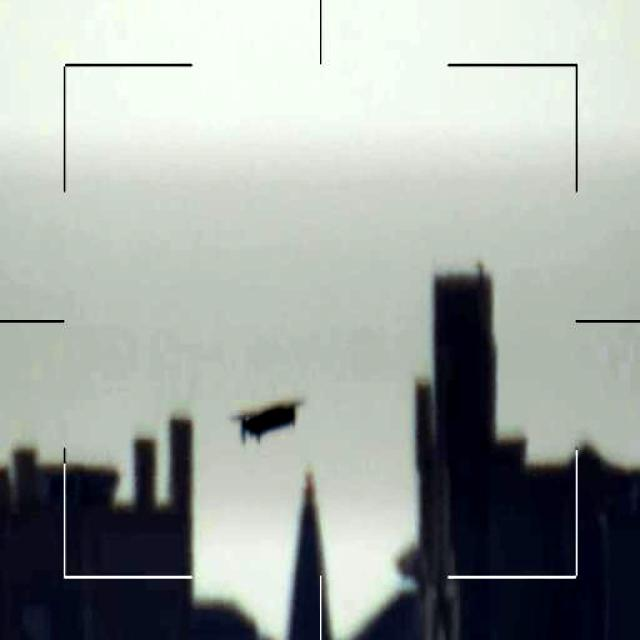bird: (239, 391, 302, 448)
